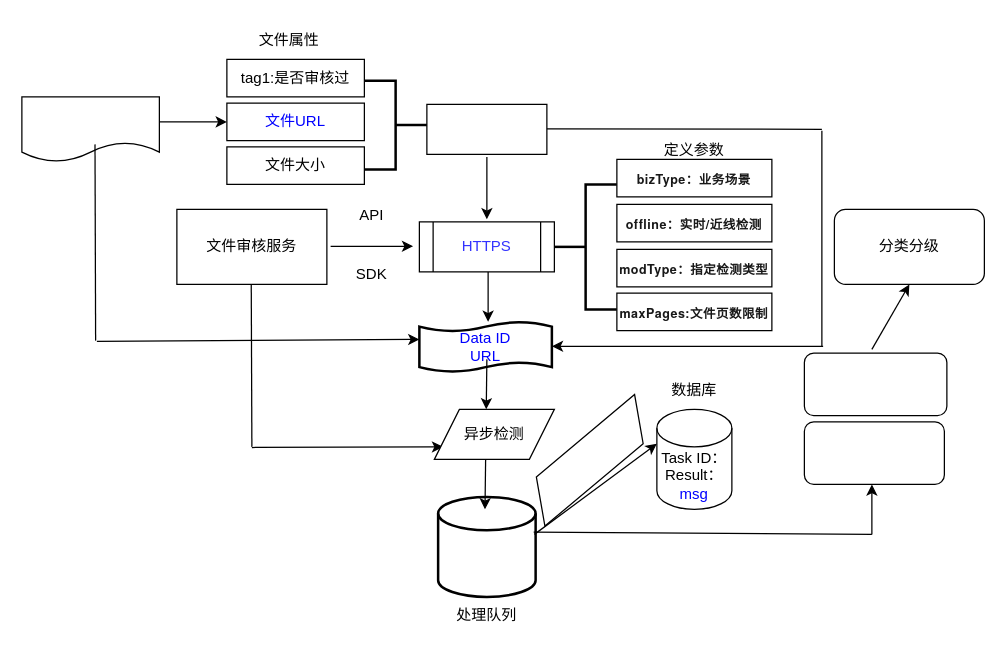
Some shapes in this 1006 by 655 pixel diagram are drawn without their labels. Each missing label, with the centre of its shape:
"Task ID" goes at point 486,546.
"存储在阿里云上的URL" goes at point 90,129.
"展示审核结果的接口" goes at point 873,452.
"新增文件" goes at point 486,128.
"轮询获得检测结果" goes at point 589,459.
"隐私信息：true" goes at point 875,384.
